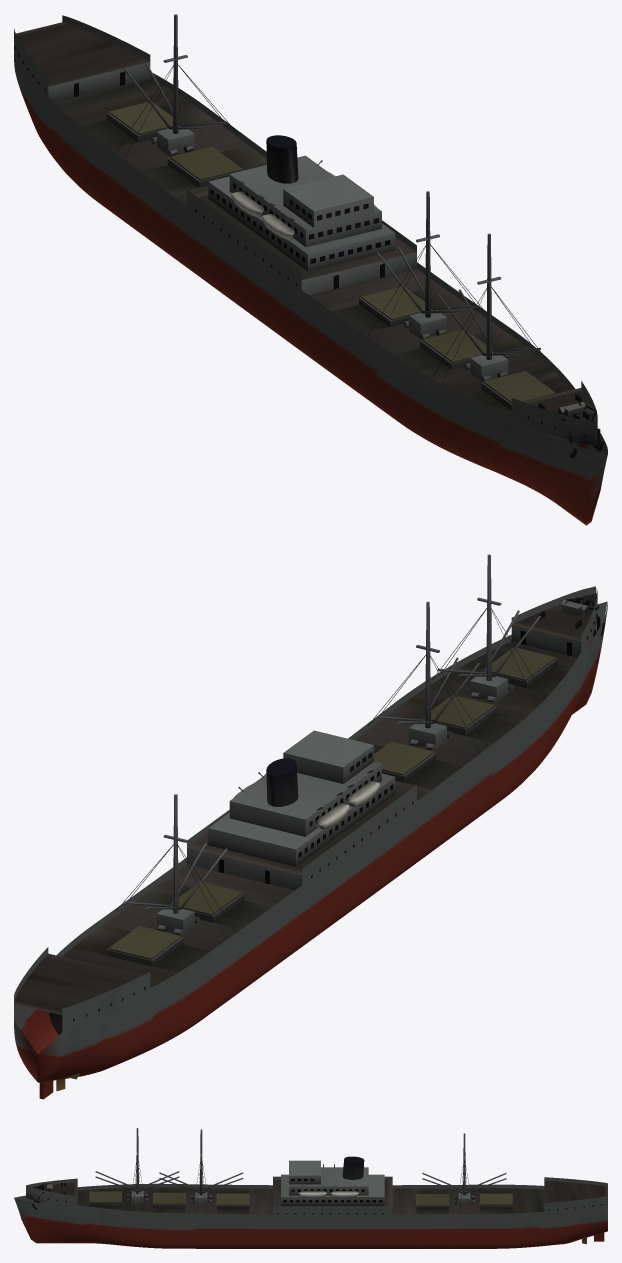
The model's file is model_built.glb.
3 renders of one model, top to bottom at view 1: azimuth 30°, elevation 25°; view 2: azimuth 150°, elevation 25°; view 3: azimuth 270°, elevation 25°, orthographic. The views are drawn at different scales.
Visible parts, largest first — view 1: main; view 2: main; view 3: main.
Part boxes in pixels (x1,y1,x2,y2): main: (14, 14, 607, 525); main: (14, 554, 607, 1099); main: (14, 1128, 607, 1248).
Bounding box in the file's own units: 17.52 × 31.91 × 149.
1 material, 1 textured.
